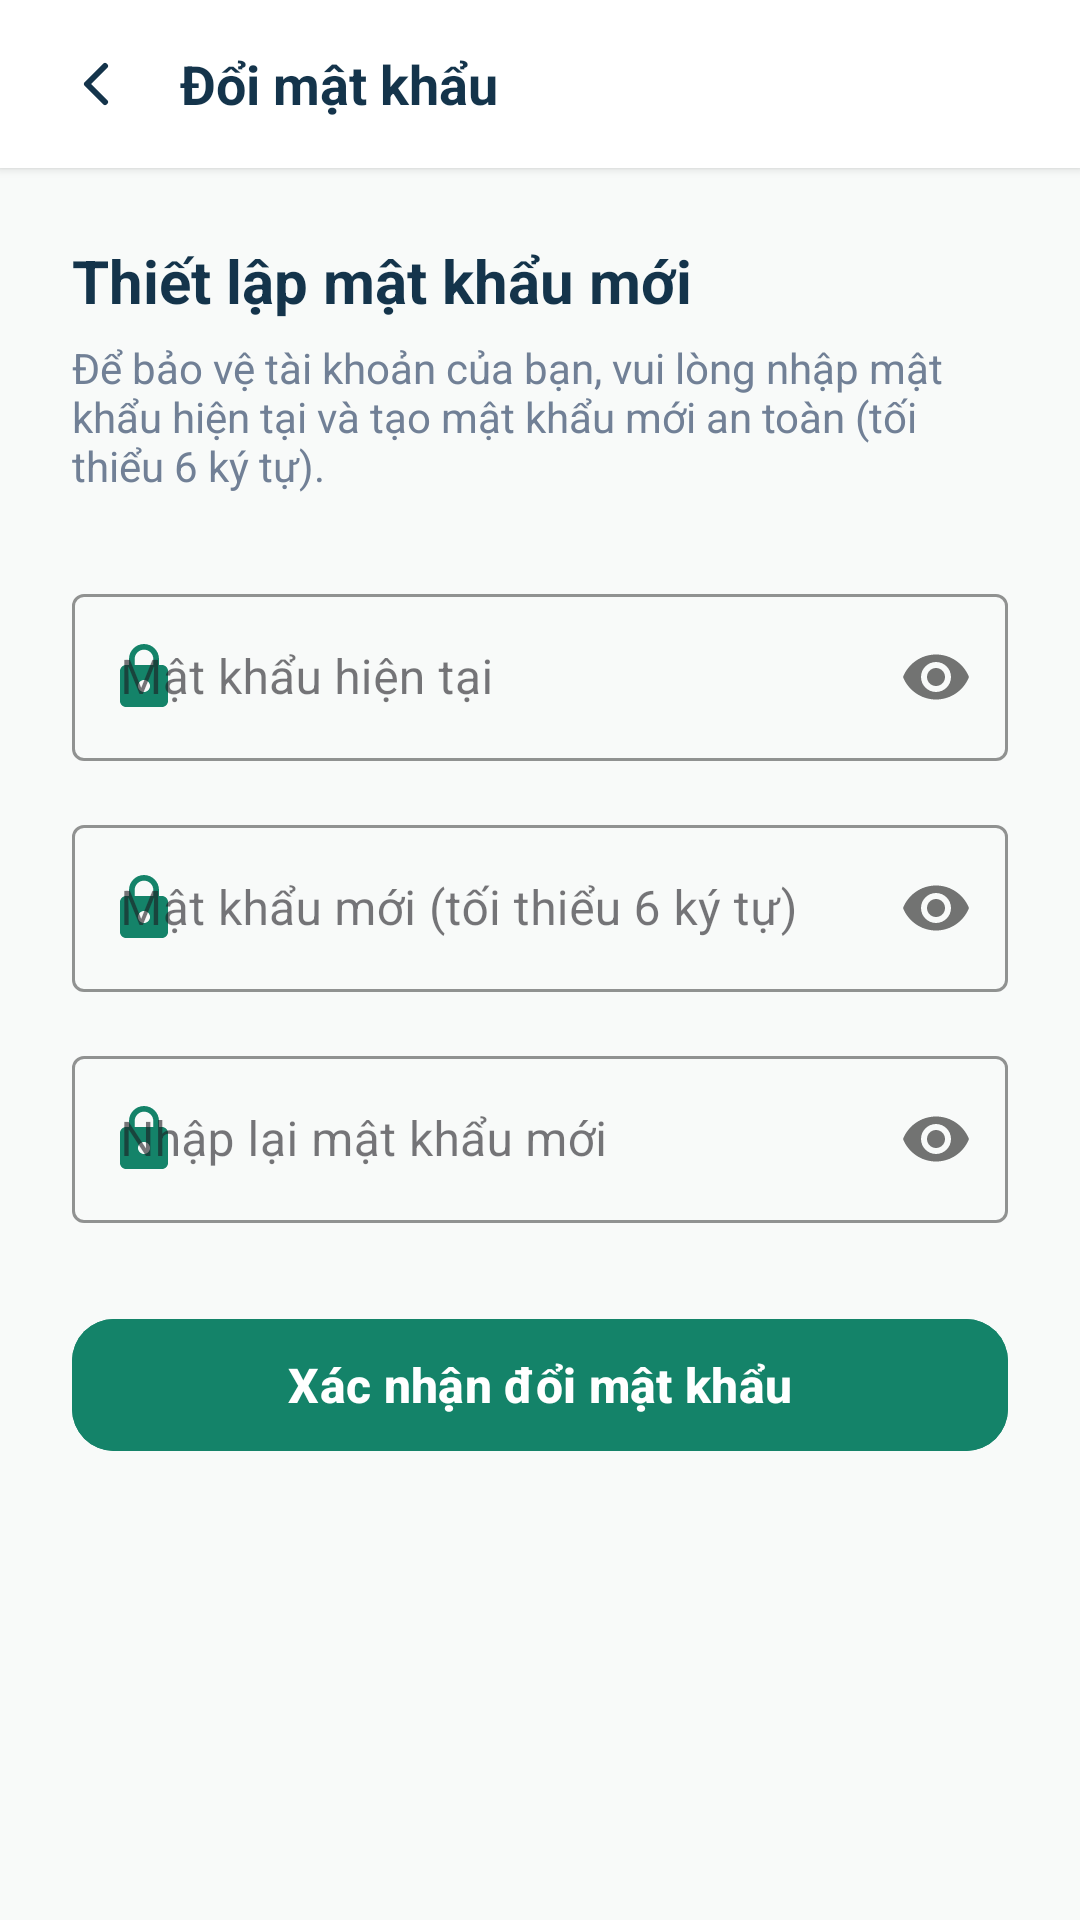

Screen size 1080 x 1920. Icon name, then its box in pixels as bbox=(x1, y1, x2, y2):
Quay lại: bbox=(84, 63, 108, 105)
